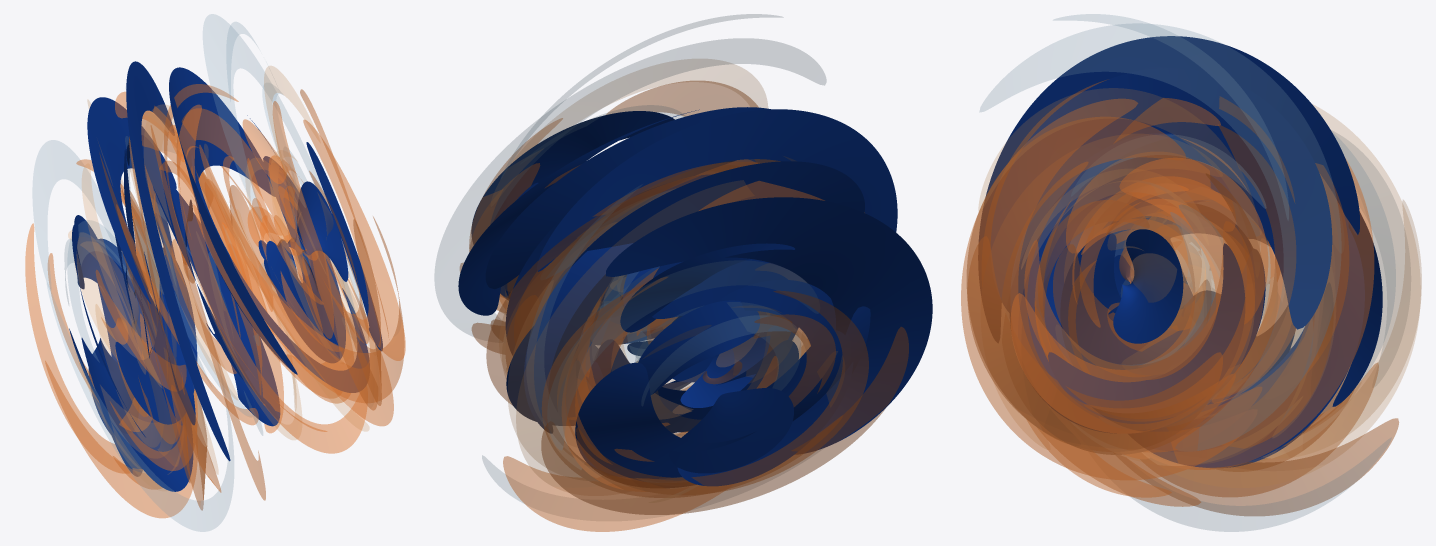
3 renders of one model, left to right at view 1: azimuth 30°, elevation 25°; view 2: azimuth 150°, elevation 25°; view 3: azimuth 270°, elevation 25°, orthographic.
Parts seen in each view (by area): view 1: rib72, rib102, rib92, rib93, rib39, rib48, rib87, rib85, rib125, rib44, rib129, rib138 (+65 smaller); view 2: rib23, rib125, rib129, rib43, rib93, rib26, rib53, rib20, rib63, rib72, rib91, rib83 (+43 smaller); view 3: rib72, rib129, rib87, rib44, rib74, rib85, rib26, rib125, rib95, rib64, rib39, rib91 (+52 smaller).
Boxes of the visible parts, <box> form: rib72: <box>169,67,297,374</box>; rib102: <box>221,216,404,402</box>; rib92: <box>177,104,366,453</box>; rib93: <box>69,238,193,491</box>; rib39: <box>263,156,345,362</box>; rib48: <box>115,247,197,424</box>; rib87: <box>199,145,393,426</box>; rib85: <box>146,173,280,426</box>; rib125: <box>126,61,230,461</box>; rib44: <box>303,119,405,360</box>; rib129: <box>203,14,366,317</box>; rib138: <box>47,283,233,531</box>; rib23: <box>606,197,932,452</box>; rib125: <box>537,109,897,271</box>; rib129: <box>434,38,826,336</box>; rib43: <box>541,327,908,514</box>; rib93: <box>575,306,870,482</box>; rib26: <box>516,180,745,487</box>; rib53: <box>576,290,868,495</box>; rib20: <box>570,161,864,275</box>; rib63: <box>547,260,818,449</box>; rib72: <box>485,107,779,289</box>; rib91: <box>503,339,808,531</box>; rib83: <box>669,388,793,473</box>; rib72: <box>991,68,1332,329</box>; rib129: <box>980,24,1341,450</box>; rib87: <box>961,99,1257,480</box>; rib44: <box>1010,221,1255,433</box>; rib74: <box>966,117,1185,443</box>; rib85: <box>1150,228,1364,467</box>; rib26: <box>1175,104,1420,487</box>; rib125: <box>979,36,1359,242</box>; rib95: <box>1144,158,1374,469</box>; rib64: <box>967,236,1221,449</box>; rib39: <box>1060,232,1265,381</box>; rib91: <box>1125,418,1398,515</box>.
Size of the model in its own units: 2.32 by 2.64 by 2.24.
